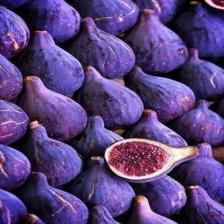purple: (74, 66, 144, 130)
